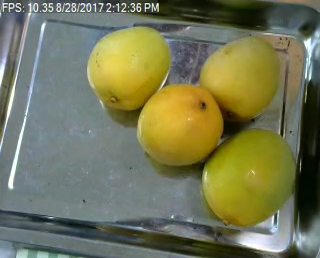Mango: (201, 129, 294, 223), (136, 82, 222, 167), (86, 26, 172, 110), (200, 36, 278, 122)
